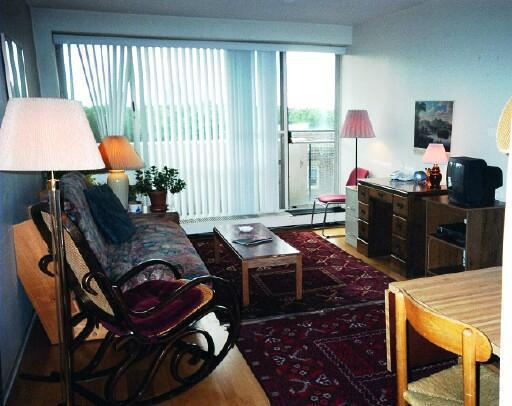Otro Obstaculo: (5, 92, 131, 404)
